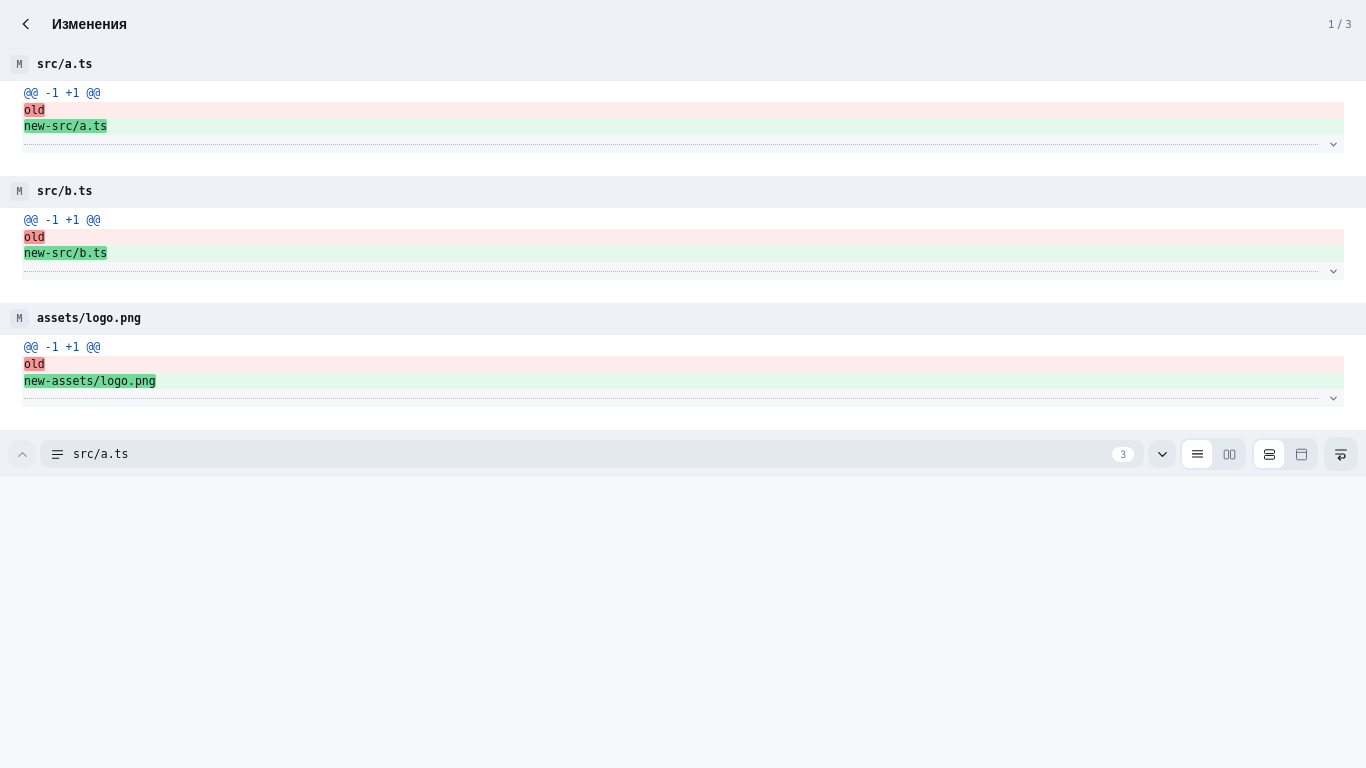
Test: GitDiffStage › jumps to the file picked from the bottom sheet
Expected: the text "1 / 3" is shown, x1=1328 y1=17 x2=1352 y2=31
Click the button with aria-label "Изменённые файлы" at (101, 454), box x1=40 y1=440 x2=1144 y2=468
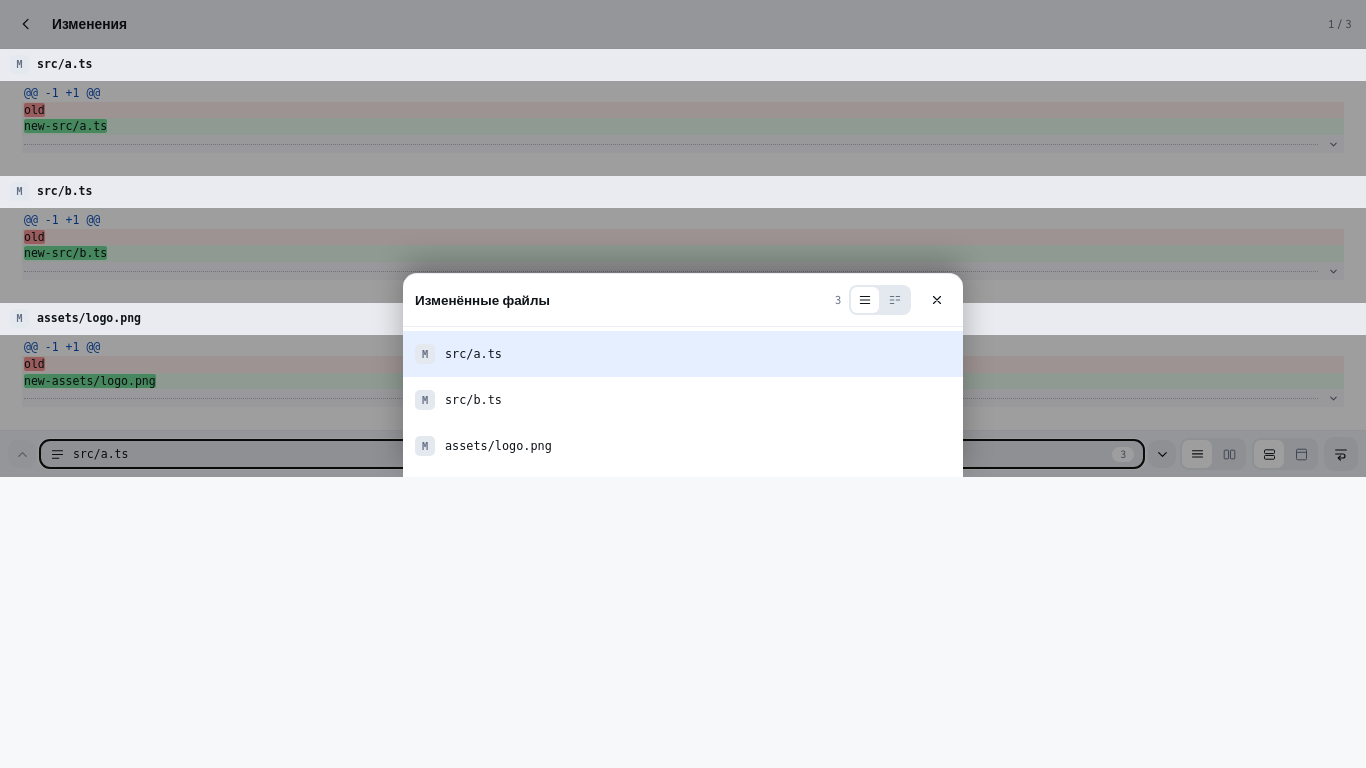
Click the button "M src/b.ts" at (473, 400), box x1=403 y1=377 x2=963 y2=423
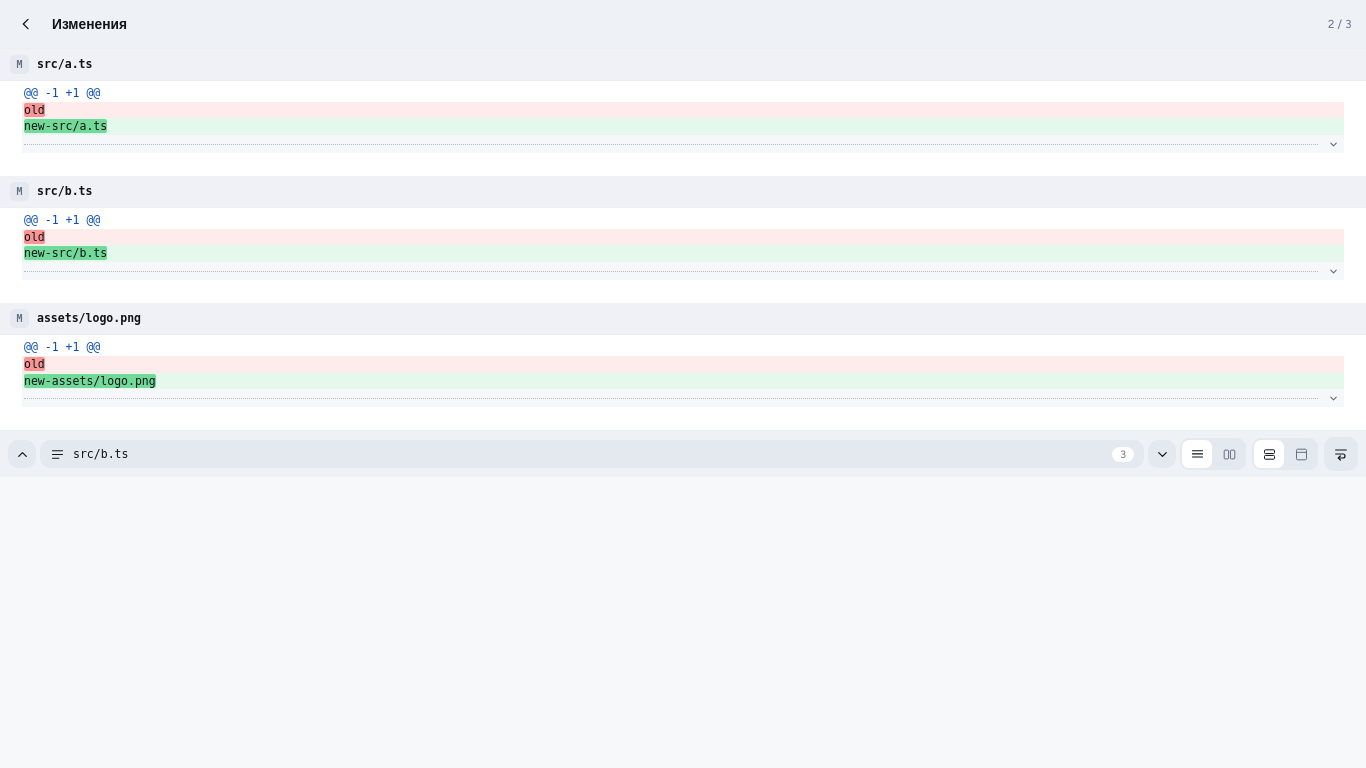
Expected: the text "2 / 3" is shown, x1=1328 y1=17 x2=1352 y2=31
